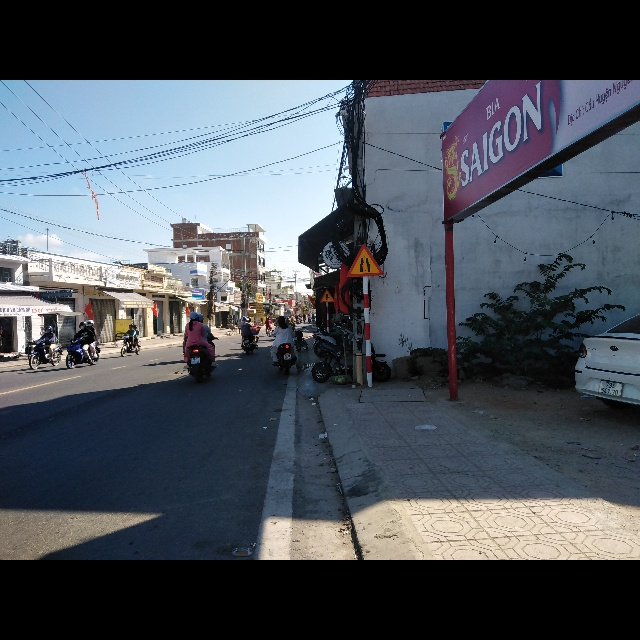Đường bị hẹp cả hai bên: (345, 243, 386, 276)
